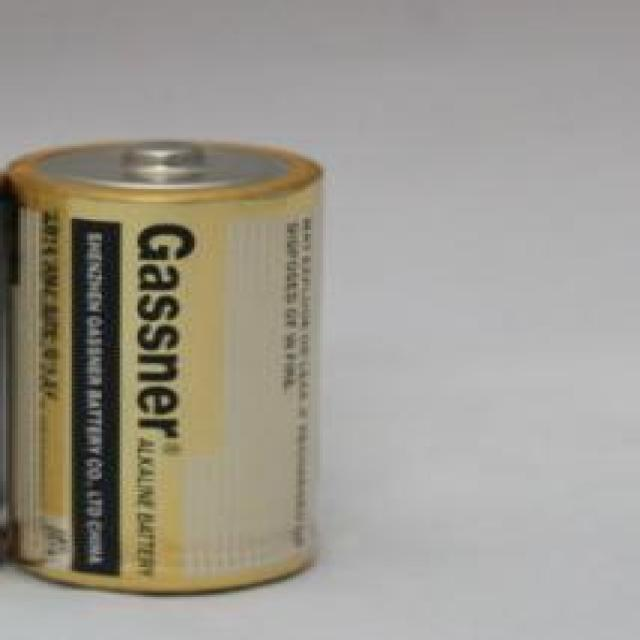inorganic: (0, 123, 332, 602)
